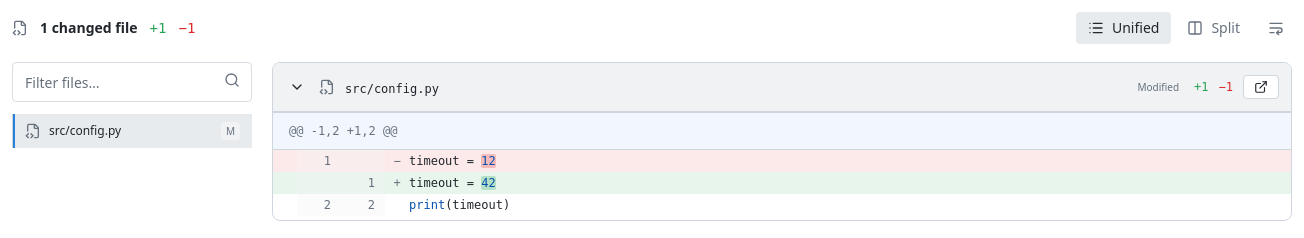
Scenario: Lazy diff files › reuses immutable query results after collapsing and expanding
Expected: the text "42" is shown, [481,176,496,190]
Click the button named "Collapse src/config.py".
click(297, 87)  # box [285,75,309,99]
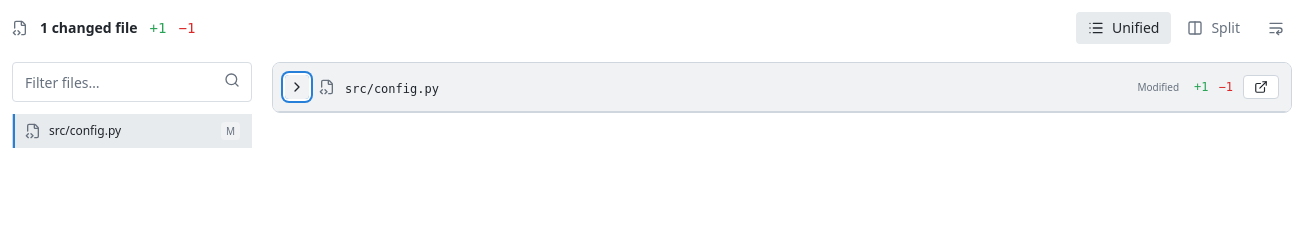
Click the button named "Expand src/config.py".
click(297, 87)  # box [285,75,309,99]
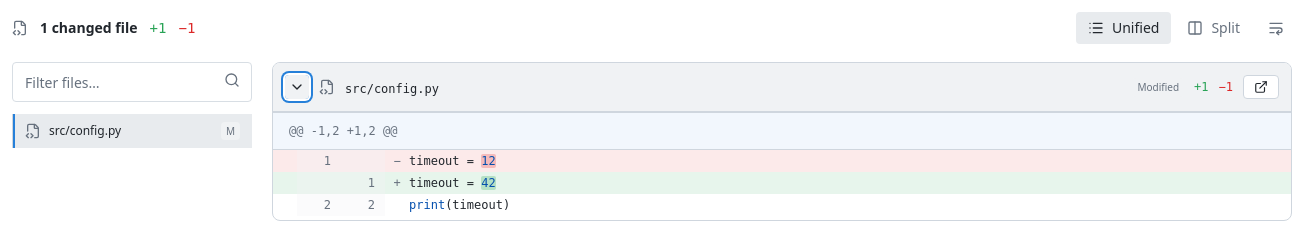
Expected: the text "42" is shown, [481,176,496,190]
